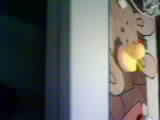duck: (112, 32, 143, 72)
